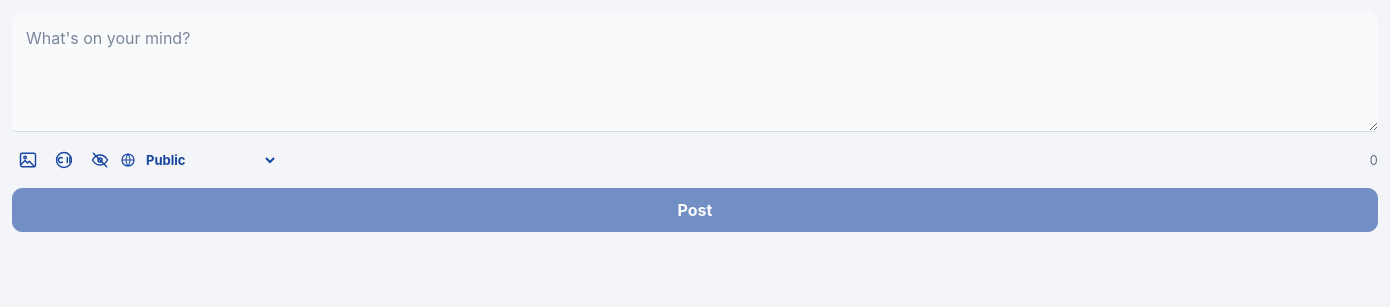
Test: localizes the unknown post outcome warning in en
Type "Outcome unknown" into the text box named "Post content" at (695, 72), box [12,12,1378,132]
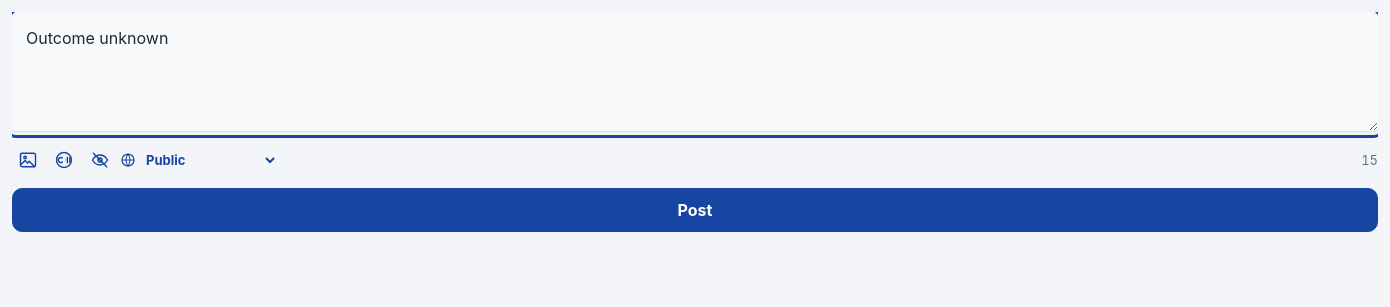
Click the button "Post" at (695, 210), box [12,188,1378,232]
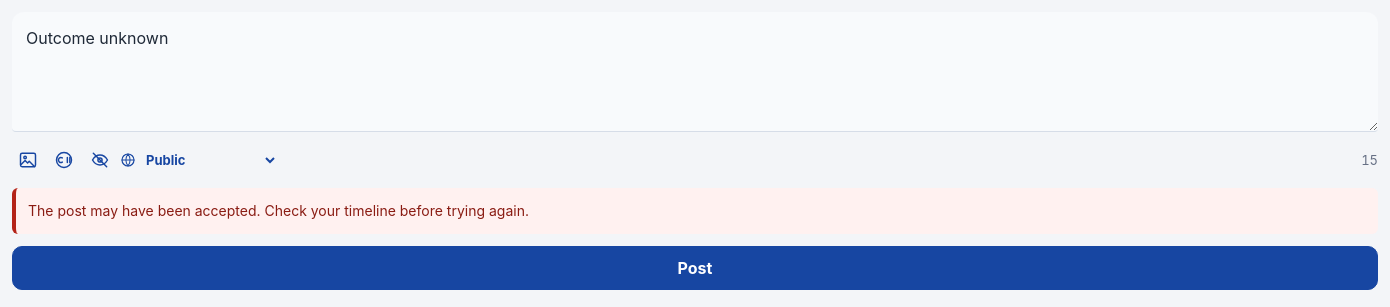
Check: the message reads "The post may have been accepted. Check your timeline before trying again.", box [28,202,529,219]
